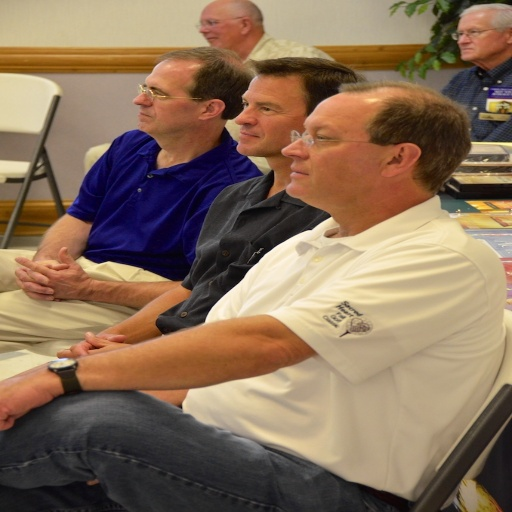hand: (12, 246, 94, 300), (0, 362, 62, 430), (12, 257, 69, 301), (54, 329, 129, 358), (64, 331, 128, 359)
